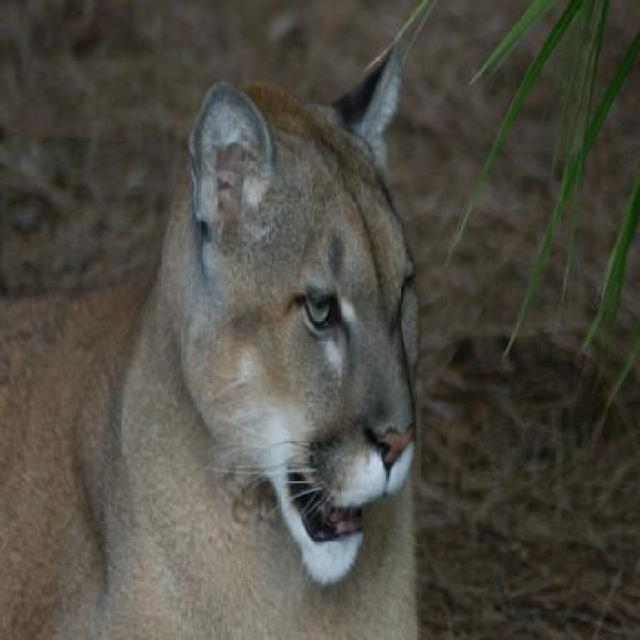Lion: (0, 42, 491, 636)
